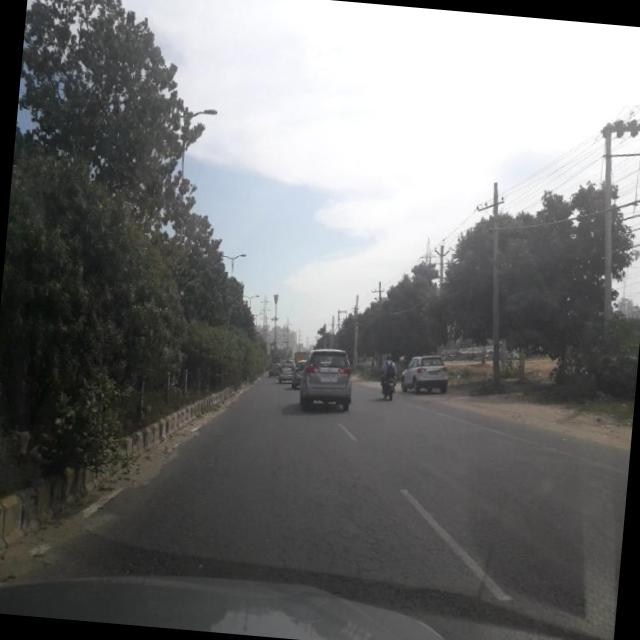crack: (51, 420, 628, 640)
